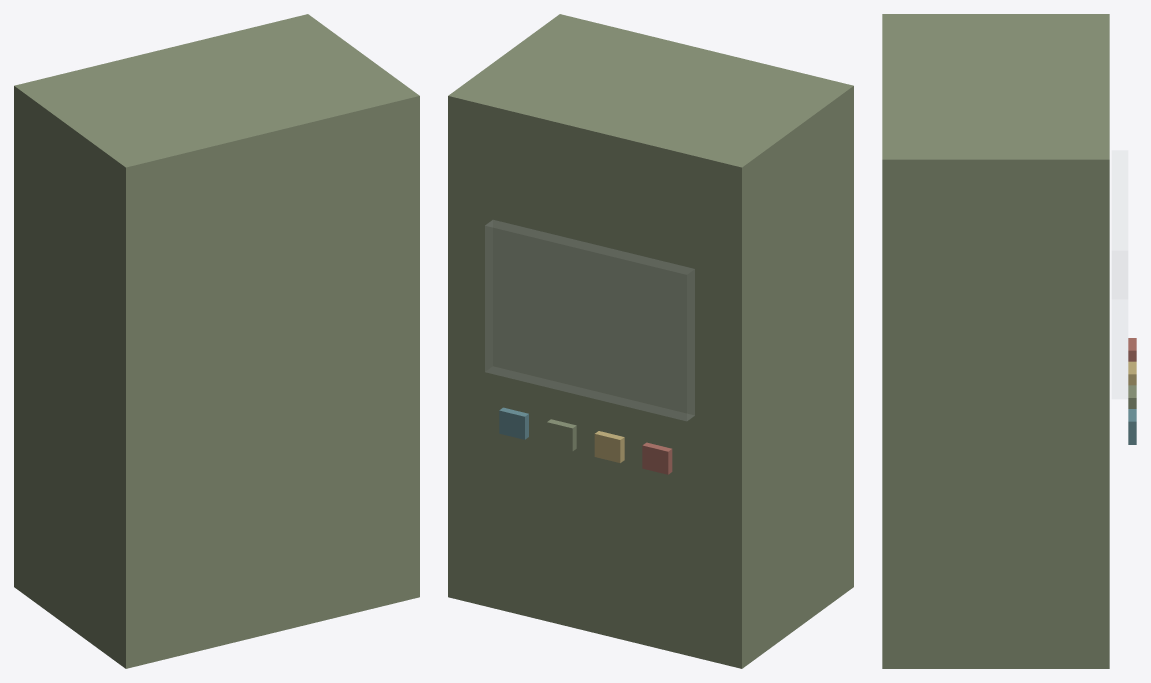
File: iz2_mission_rescue_winchtop.glb
The picture shows the model from 3 angles, left to right: view 1: azimuth 30°, elevation 25°; view 2: azimuth 150°, elevation 25°; view 3: azimuth 270°, elevation 25°; orthographic projection.
Visible parts, largest first — view 1: body; view 2: body, screen; view 3: body, screen.
Part boxes in pixels (x1,y1,x2,y2): body: (14,14,419,668); body: (448,14,853,668); screen: (485,220,694,420); body: (882,14,1136,668); screen: (1112,150,1127,398).
Bounding box in the file's own units: 0.8097 × 1.32 × 0.5966.
